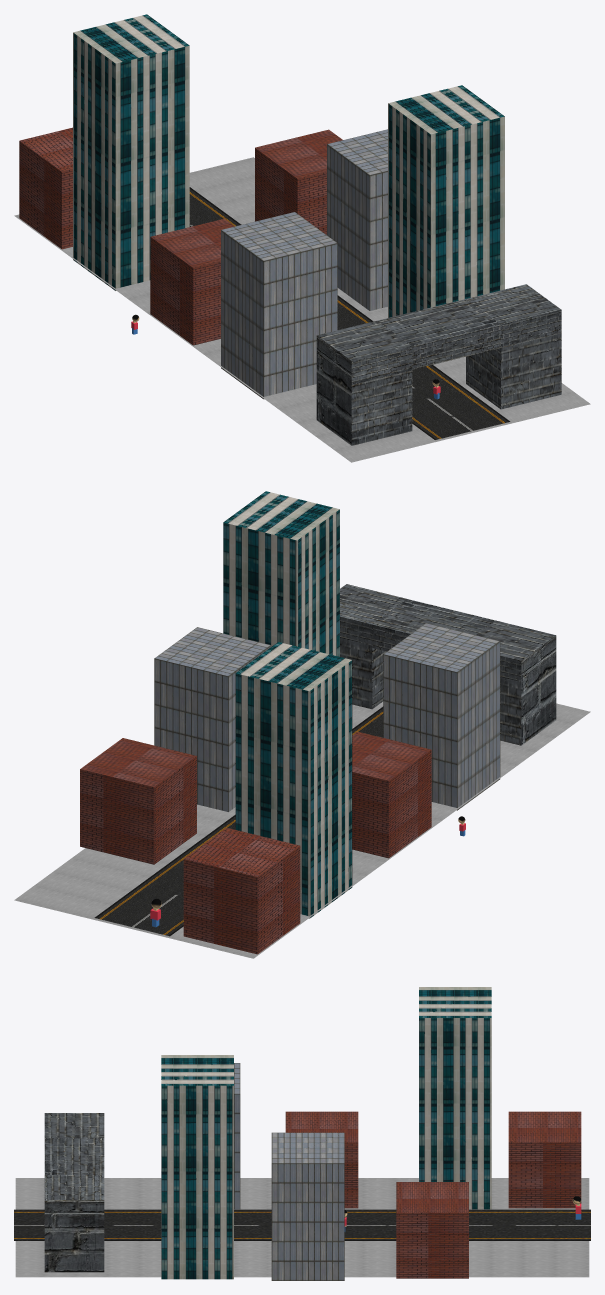
The model's file is mesto3_2.gltf.
3 renders of one model, top to bottom at view 1: azimuth 30°, elevation 25°; view 2: azimuth 150°, elevation 25°; view 3: azimuth 270°, elevation 25°, orthographic. The views are drawn at different scales.
Parts seen in each view (by area): view 1: bloki_desno.004, most, bloki__levo.004, bloki_desno.002, cesta, bloki__levo.002, bloki_desno.003, bloki__levo.003, bloki_desno.001; view 2: bloki_desno.004, bloki_desno.002, bloki__levo.004, cesta, most, bloki_desno.001, bloki__levo.002, bloki__levo.003, bloki_desno.003; view 3: cesta, bloki__levo.004, bloki_desno.004, bloki__levo.002, most, bloki_desno.001, bloki__levo.003, bloki_desno.003, bloki_desno.002.
Boxes of the visible parts, x1,y1,x2,y2 form: bloki_desno.004: (73,14,189,290); most: (316,284,561,445); bloki__levo.004: (388,85,504,317); bloki_desno.002: (221,212,337,399); cesta: (14,157,590,462); bloki__levo.002: (327,129,387,310); bloki_desno.003: (150,218,234,345); bloki__levo.003: (255,129,342,234); bloki_desno.001: (19,127,72,249); bloki_desno.004: (235,642,352,918); bloki_desno.002: (383,623,500,810); bloki__levo.004: (223,491,339,656); cesta: (14,701,590,958); most: (340,584,556,745); bloki_desno.001: (183,827,300,954); bloki__levo.002: (154,627,271,811); bloki__levo.003: (80,738,196,864); bloki_desno.003: (352,731,431,858); cesta: (14,1178,590,1277); bloki__levo.004: (161,1055,233,1279); bloki_desno.004: (419,987,491,1209); bloki__levo.002: (271,1132,344,1280); most: (44,1113,104,1272); bloki_desno.001: (508,1111,581,1208); bloki__levo.003: (396,1182,468,1278); bloki_desno.003: (285,1111,358,1208); bloki_desno.002: (234,1063,240,1209).
Size of the model in its own units: 11.23 by 8.41 by 22.73.
Materials: 24 (24 with a texture image).
